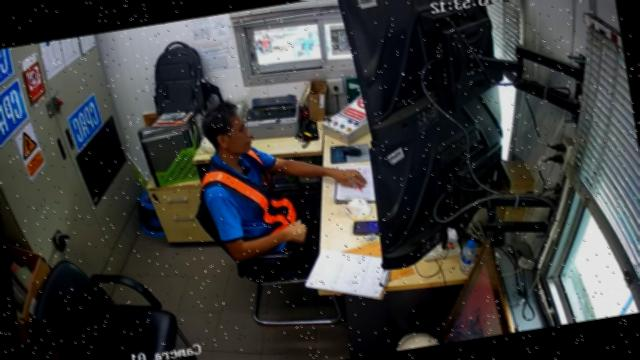Head: (201, 102, 252, 154)
People: (197, 103, 367, 268)
Phone: (352, 221, 381, 235)
